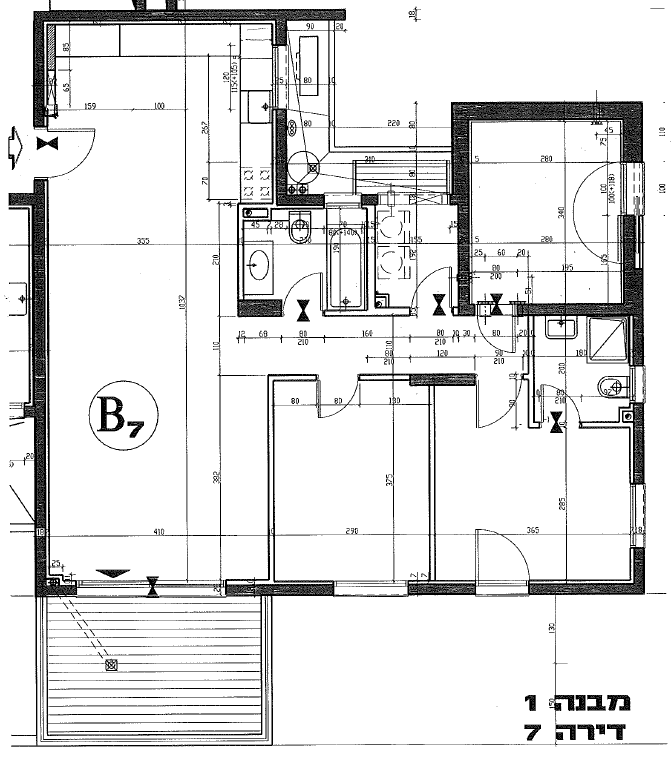wall: (33, 191, 47, 600), (36, 7, 345, 20), (453, 105, 643, 119), (528, 582, 642, 594), (239, 299, 281, 316)
